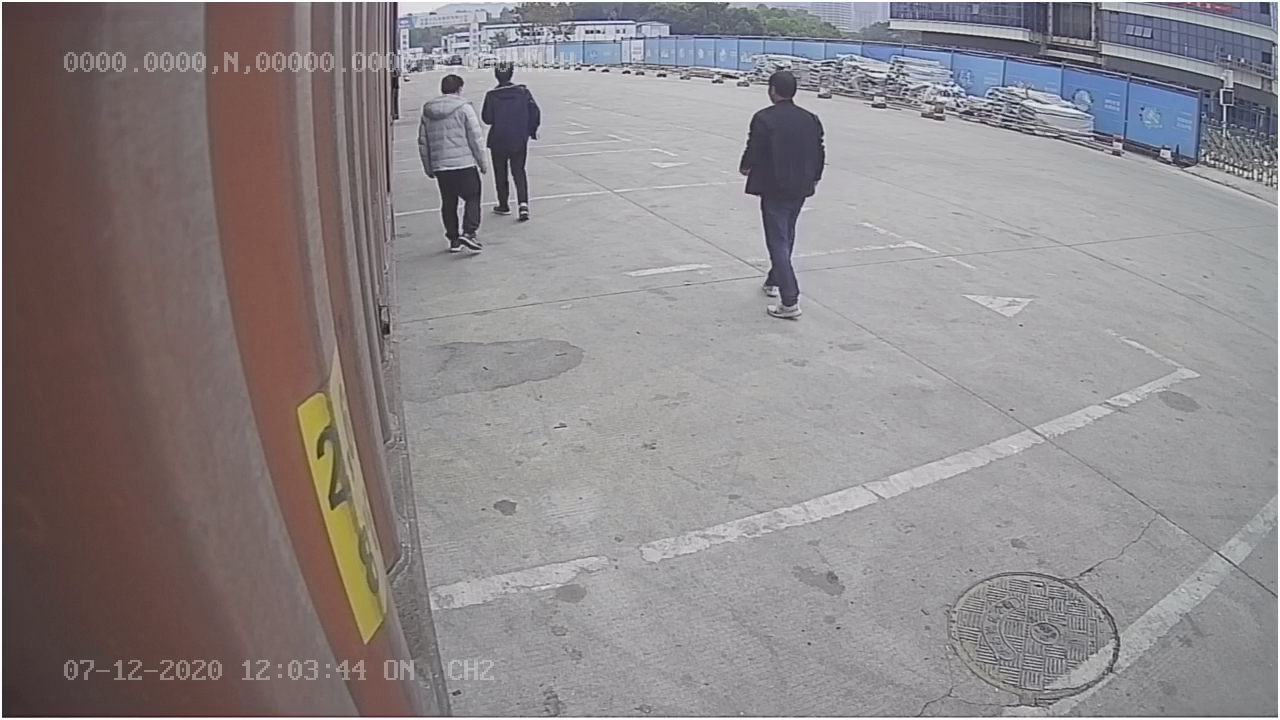person: (739, 70, 831, 320)
